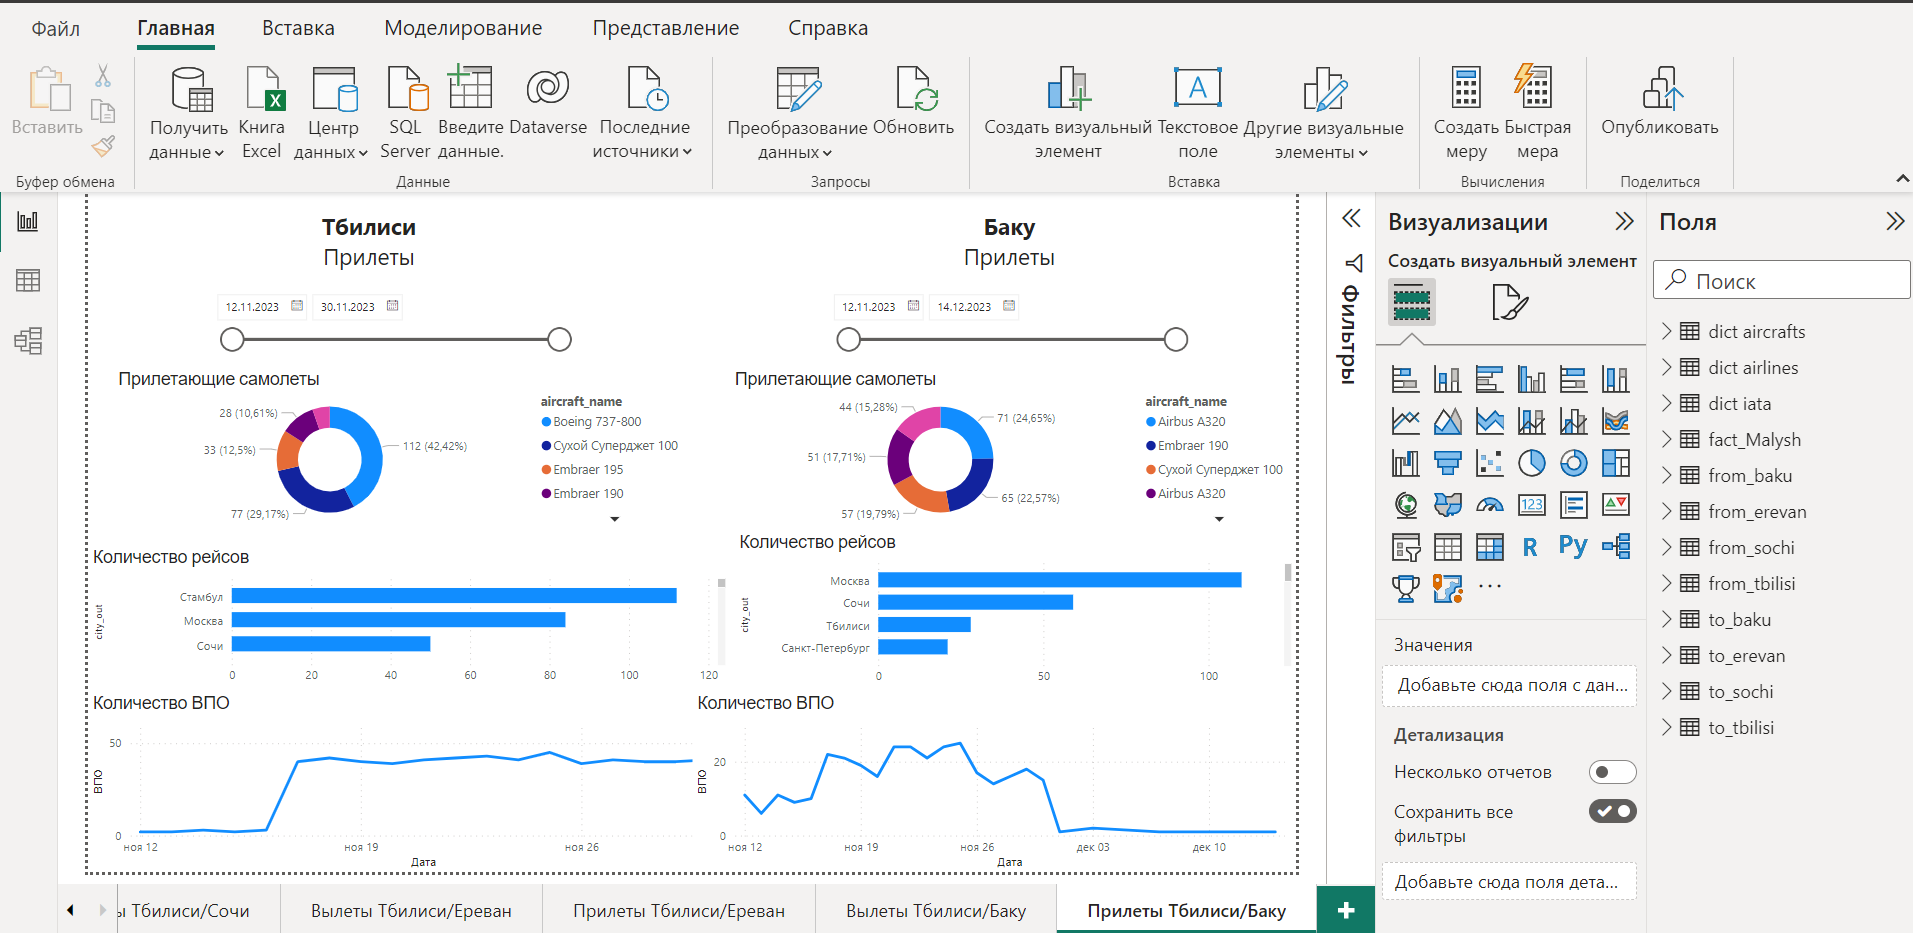

The dashboard page shown, as its layout file describes it:
{"tool":"powerbi","page":{"name":"Прилеты Тбилиси/Баку","canvas":[1280,720],"ordinal":5},"visuals":[{"type":"donutChart","title":"Прилетающие самолеты","fields":{"Category":["to_tbilisi.aircraft_name"],"Y":["CountNonNull(to_tbilisi.aircraft_name)"]},"box":[27.5,188,612.7,172],"z":0},{"type":"barChart","title":"Количество рейсов","fields":{"Category":["to_tbilisi.city_out"],"Y":["CountNonNull(to_tbilisi.flt_code)"]},"box":[0,376.8,680.1,153.4],"z":1000},{"type":"lineChart","title":"Количество ВПО","fields":{"Category":["to_tbilisi.dat.Изменение.Иерархия дат.Год","to_tbilisi.dat.Изменение.Иерархия дат.Квартал","to_tbilisi.dat.Изменение.Иерархия дат.Месяц","to_tbilisi.dat.Изменение.Иерархия дат.День"],"Y":["CountNonNull(to_tbilisi.flt_code)"]},"box":[0,530.2,680.1,189.8],"z":2000},{"type":"barChart","title":"Количество рейсов","fields":{"Category":["to_baku.city_out"],"Y":["CountNonNull(to_baku.flt_code)"]},"box":[685.4,360,595,170.2],"z":3000},{"type":"lineChart","title":"Количество ВПО","fields":{"Category":["to_baku.dat.Изменение.Иерархия дат.Год","to_baku.dat.Изменение.Иерархия дат.Квартал","to_baku.dat.Изменение.Иерархия дат.Месяц","to_baku.dat.Изменение.Иерархия дат.День"],"Y":["CountNonNull(to_baku.flt_code)"]},"box":[640.2,530.2,640.2,189.8],"z":4000},{"type":"textbox","box":[225.2,15.1,143.6,78],"z":5000},{"type":"textbox","box":[904.4,15.1,143.6,78],"z":6000},{"type":"donutChart","title":"Прилетающие самолеты","fields":{"Category":["to_baku.aircraft_name"],"Y":["CountNonNull(to_baku.aircraft_name)"]},"box":[680.1,188,600.3,172],"z":7000},{"type":"slicer","fields":{"Values":["to_tbilisi.dat"]},"box":[123.3,99.3,396.4,88.7],"z":8000},{"type":"slicer","fields":{"Values":["to_baku.dat"]},"box":[777.6,99.3,396.4,88.7],"z":9000},{"type":"image","box":[1031.5,0,247.9,114.4],"z":10000}]}

Visuals, with their boxes on the page's 1280x720 design canvas (x1, y1, x2, y2). These are canvas units, not pixel positions in the 1913x933 screenshot, which may show the page scaled, cropped or inside an application window:
"Прилетающие самолеты" donutChart: box(28, 188, 640, 360)
"Количество рейсов" barChart: box(0, 377, 680, 530)
"Количество ВПО" lineChart: box(0, 530, 680, 720)
"Количество рейсов" barChart: box(685, 360, 1280, 530)
"Количество ВПО" lineChart: box(640, 530, 1280, 720)
textbox: box(225, 15, 369, 93)
textbox: box(904, 15, 1048, 93)
"Прилетающие самолеты" donutChart: box(680, 188, 1280, 360)
slicer - to_tbilisi.dat: box(123, 99, 520, 188)
slicer - to_baku.dat: box(778, 99, 1174, 188)
image: box(1032, 0, 1279, 114)
